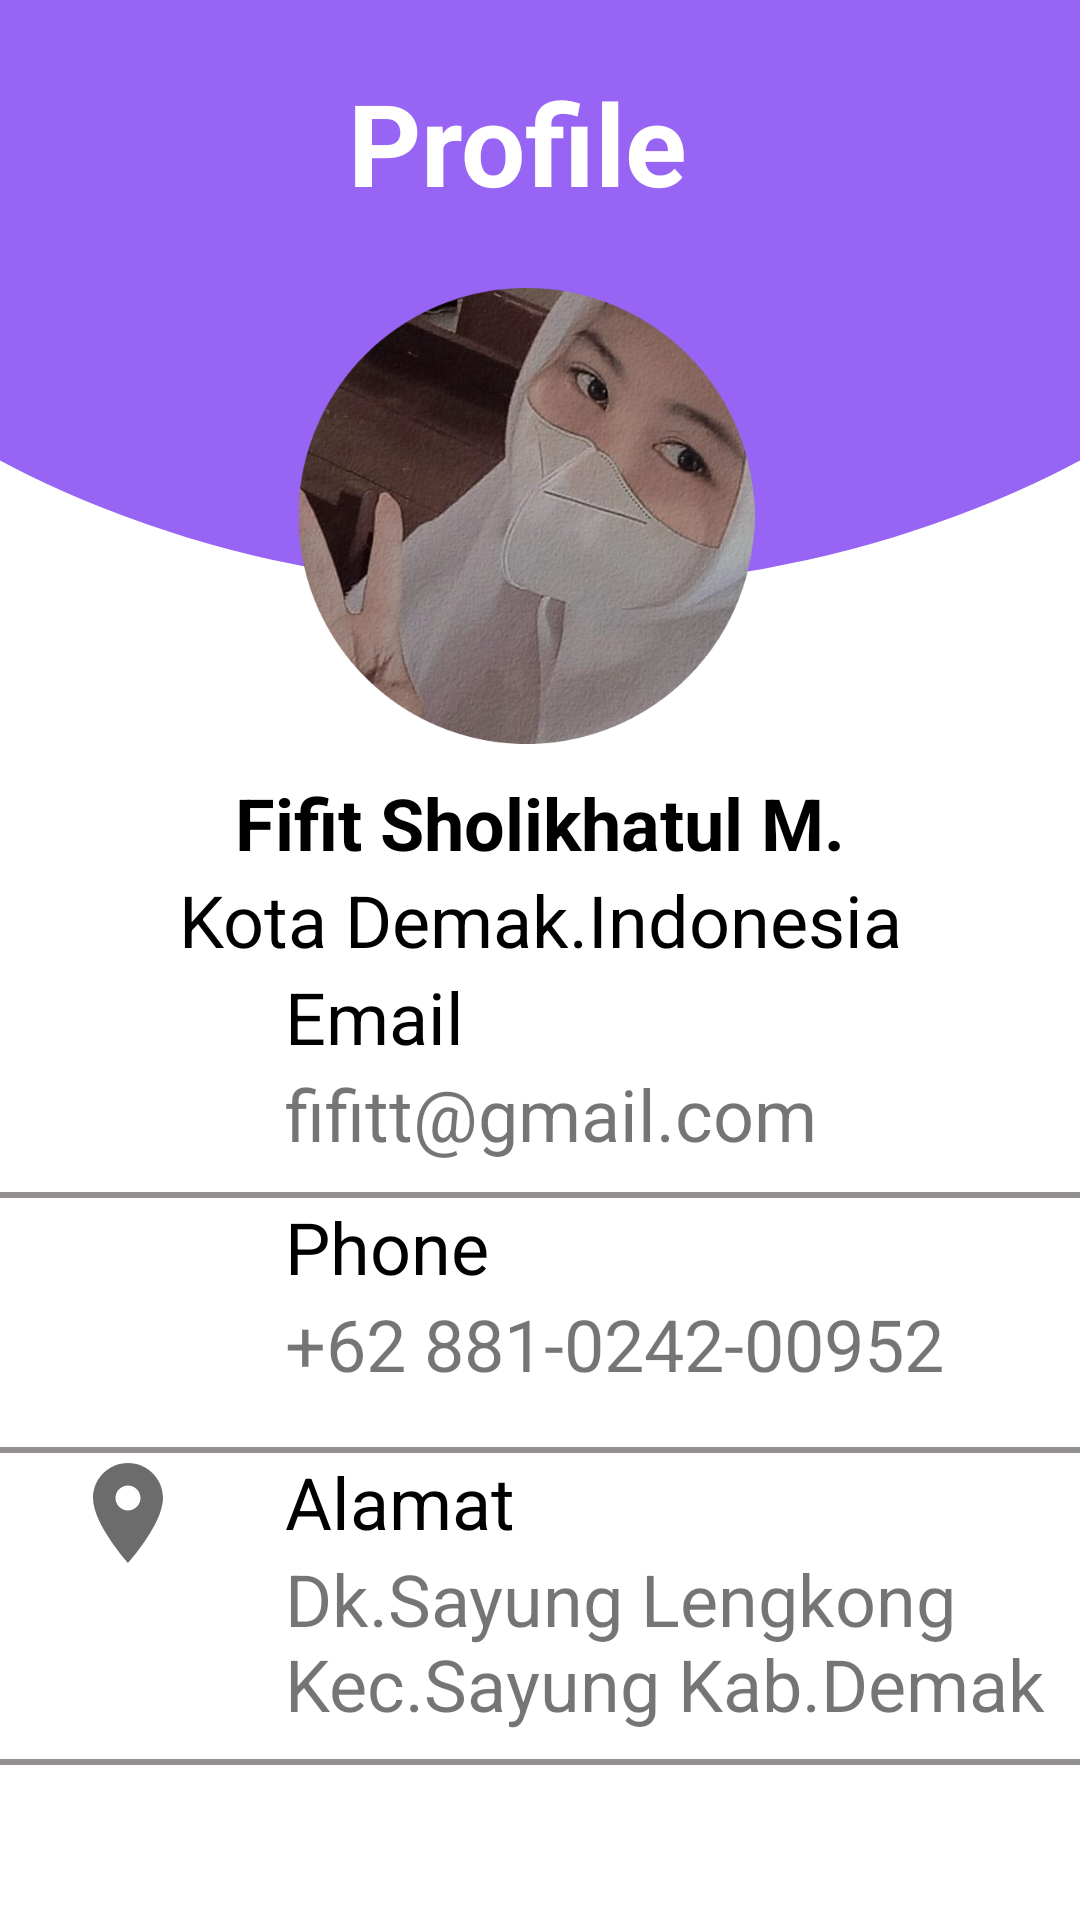

Point at icon controls on the screen. Image size 1080x1920, points as (x,y).
location: (128,1513)
